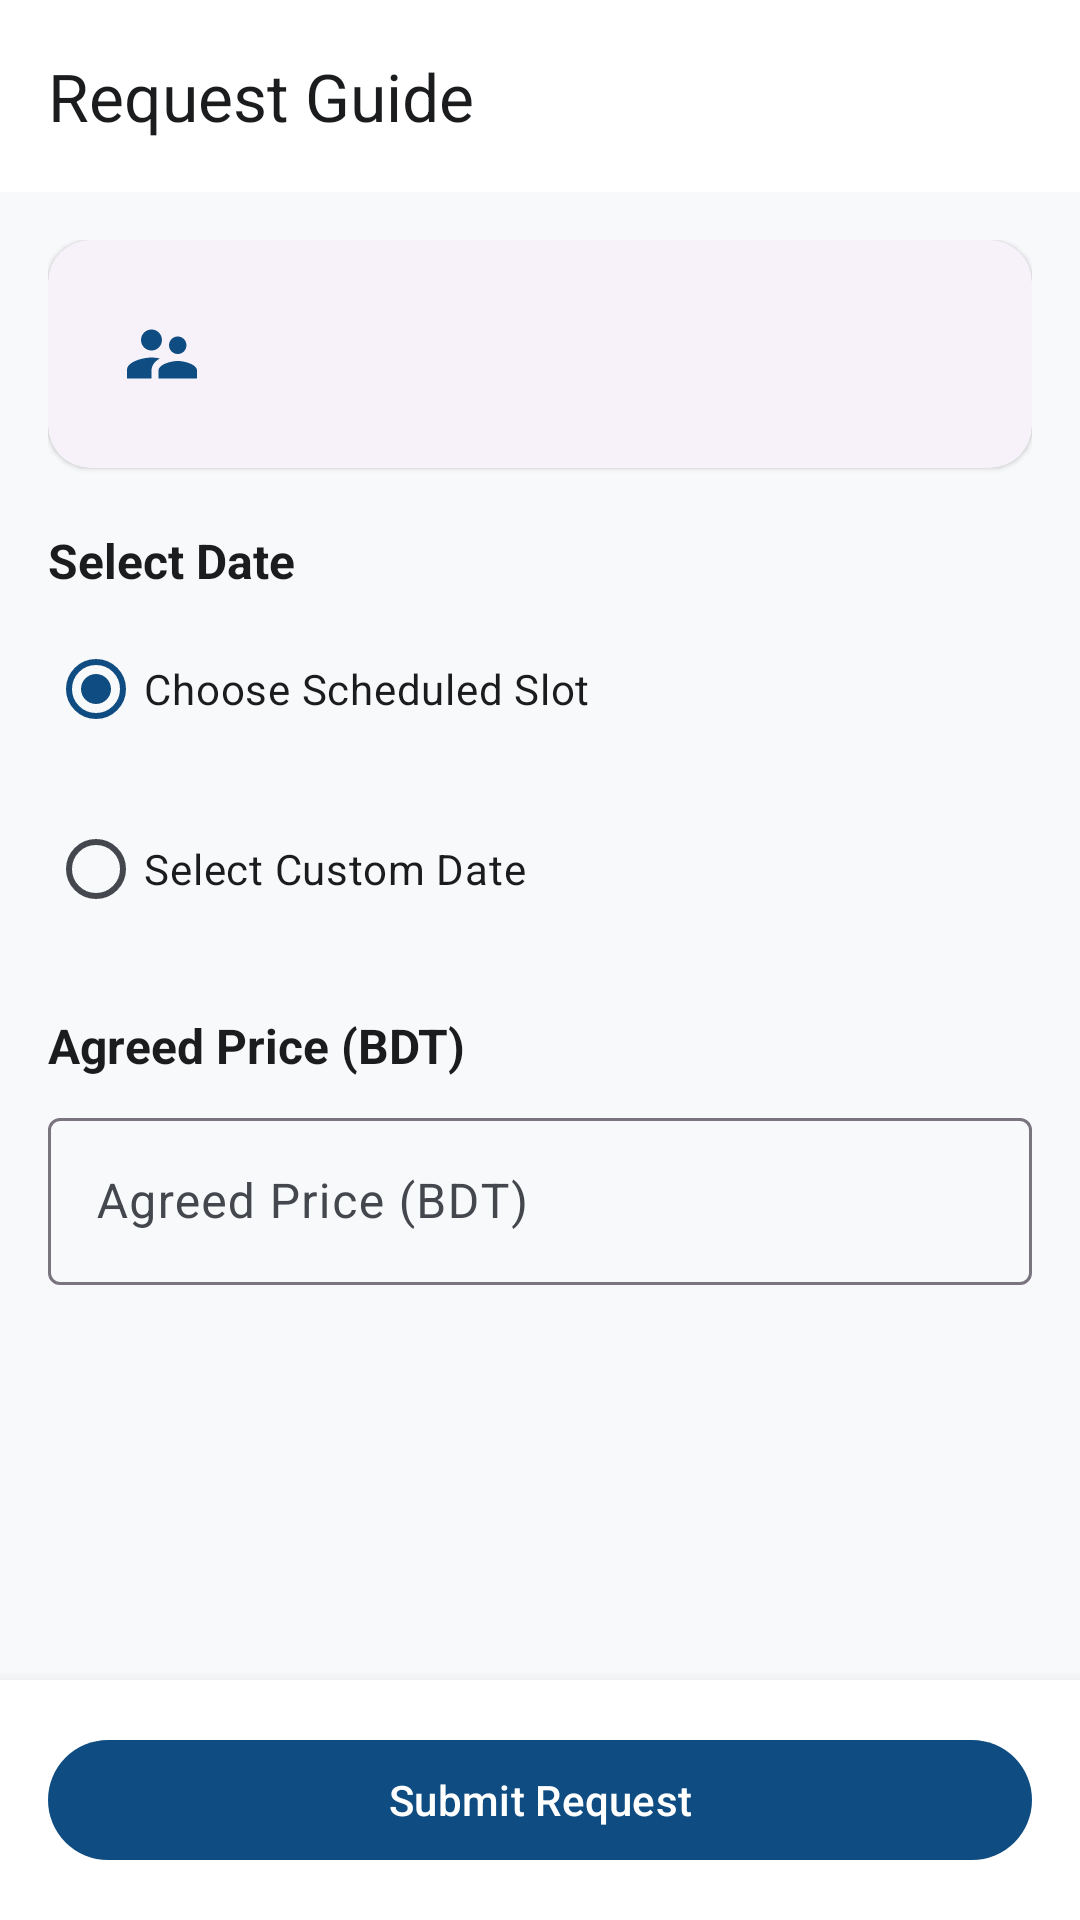

Where icons sit on this 1080px x 1920px app screen, as rect(x1, y1, x2, y2):
guides: rect(127, 329, 197, 379)
